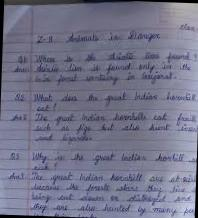text: (15, 44, 198, 72), (7, 144, 197, 170), (9, 104, 198, 130), (13, 84, 197, 110), (11, 56, 194, 80), (6, 166, 196, 188), (27, 66, 175, 92), (26, 188, 192, 211), (26, 178, 195, 200), (28, 197, 194, 218), (32, 118, 198, 138), (34, 25, 162, 50), (32, 131, 92, 147), (26, 209, 99, 218), (35, 101, 57, 115), (31, 162, 57, 172), (178, 21, 198, 33)
